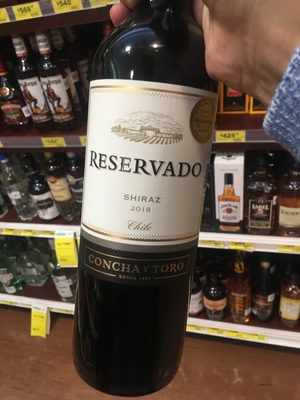reservado shiraz: (67, 28, 211, 385)
